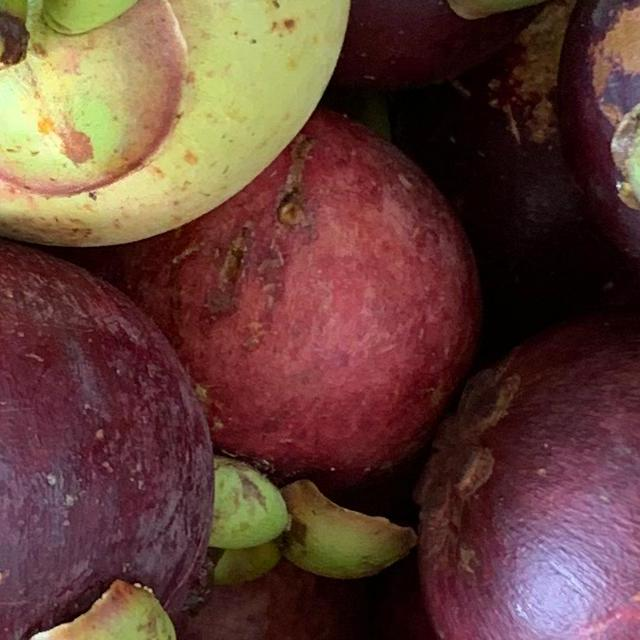mangosteen: (308, 244, 640, 640), (0, 0, 508, 169), (0, 234, 208, 640)
